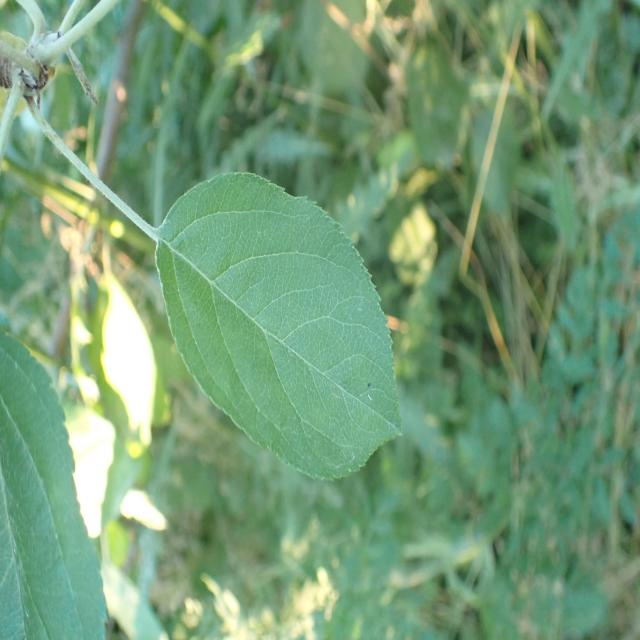healthy: (155, 171, 403, 482), (0, 326, 108, 639)
